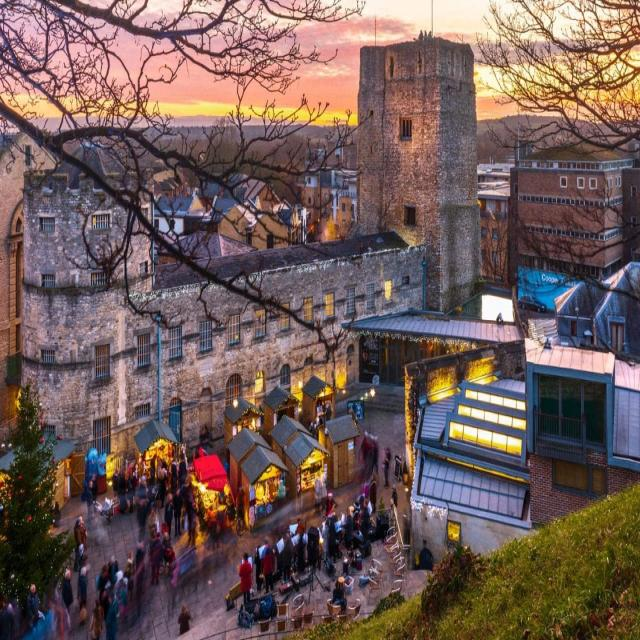body: (0, 581, 72, 640), (115, 458, 168, 534), (182, 489, 225, 554), (358, 428, 386, 514), (101, 569, 133, 639), (131, 539, 147, 617), (260, 535, 276, 595), (238, 551, 254, 609), (150, 530, 166, 585), (97, 563, 111, 619), (76, 565, 88, 628), (122, 548, 136, 602), (104, 589, 118, 640), (280, 531, 294, 581), (26, 582, 41, 628), (88, 597, 104, 640), (272, 536, 286, 582), (172, 486, 184, 538), (198, 419, 214, 458), (61, 568, 74, 615), (147, 524, 159, 574), (77, 514, 89, 563), (107, 554, 119, 600), (253, 544, 264, 593), (78, 554, 89, 602), (327, 514, 337, 564), (320, 464, 330, 514), (177, 604, 192, 637), (164, 494, 174, 542), (86, 478, 96, 525), (342, 507, 352, 551), (361, 498, 370, 546), (296, 532, 306, 575), (382, 445, 392, 488), (313, 469, 323, 512), (178, 452, 188, 493), (322, 517, 331, 562), (90, 472, 98, 514), (73, 516, 85, 543), (324, 492, 336, 519), (170, 458, 178, 496), (315, 528, 322, 570), (389, 496, 397, 522), (391, 483, 398, 510), (294, 518, 302, 535), (113, 468, 119, 482)
